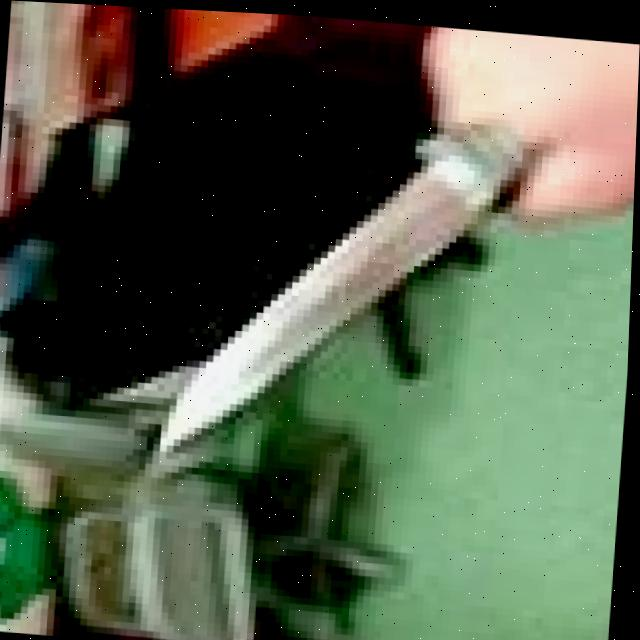knife: (157, 95, 543, 488)
